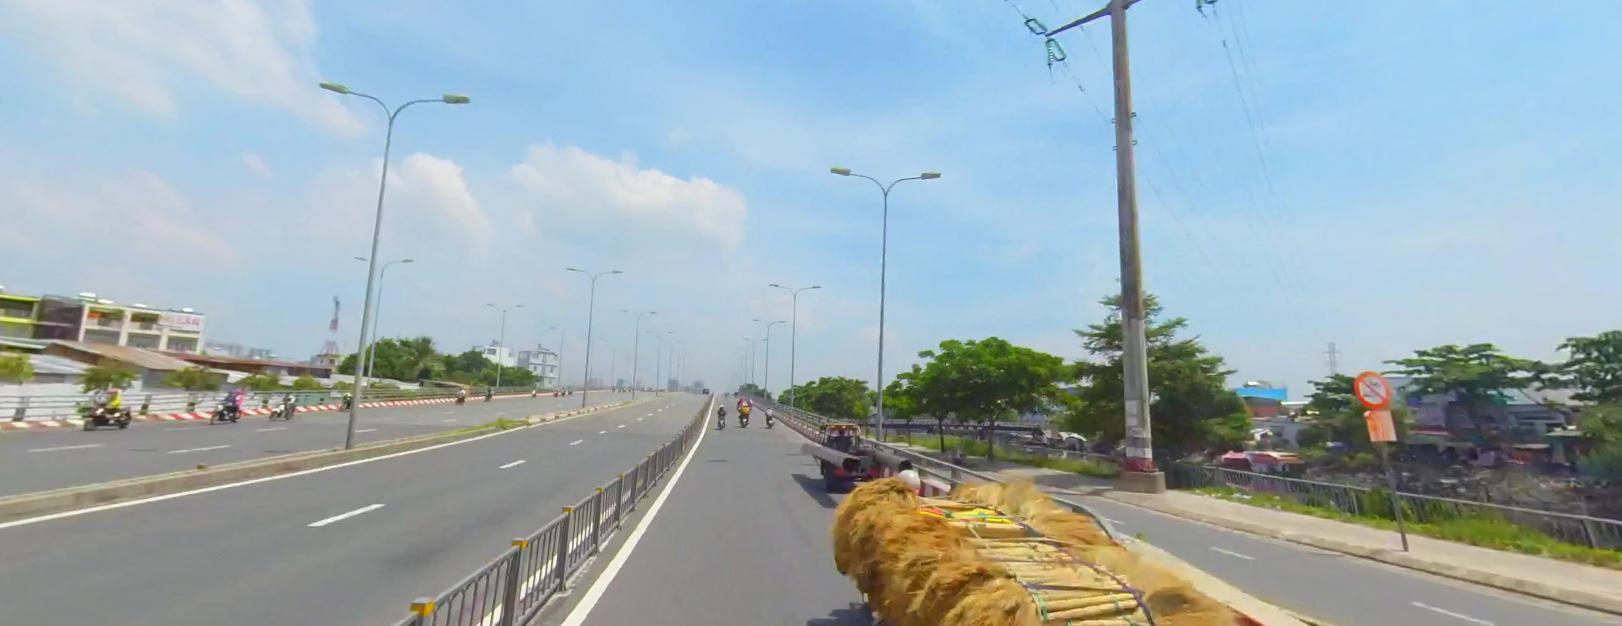Cam con lai: (1354, 369, 1391, 408)
